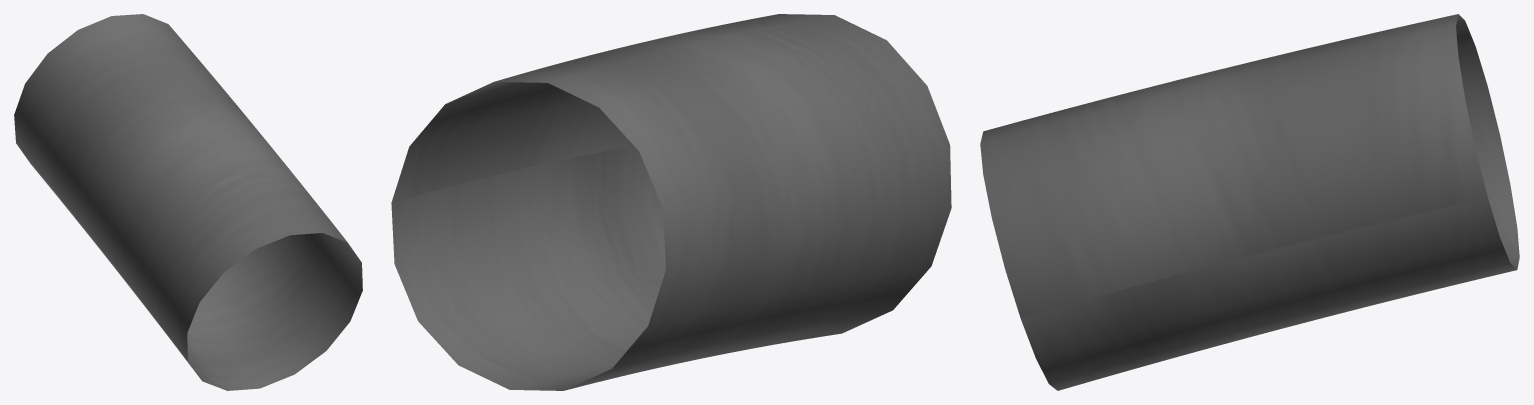
Rendered from mastarmcurve_8x2_c4.obj.
The picture shows the model from 3 angles, left to right: view 1: azimuth 30°, elevation 25°; view 2: azimuth 150°, elevation 25°; view 3: azimuth 270°, elevation 25°; orthographic projection. The views are drawn at different scales.
Visible parts, largest first — view 1: mastarm_8x2_c4; view 2: mastarm_8x2_c4; view 3: mastarm_8x2_c4.
Boxes of the visible parts, <box> form: mastarm_8x2_c4: <box>14,14,362,390</box>; mastarm_8x2_c4: <box>391,14,951,390</box>; mastarm_8x2_c4: <box>980,14,1519,390</box>.
Bounding box in the file's own units: 0.5781 × 0.83 × 1.15.
